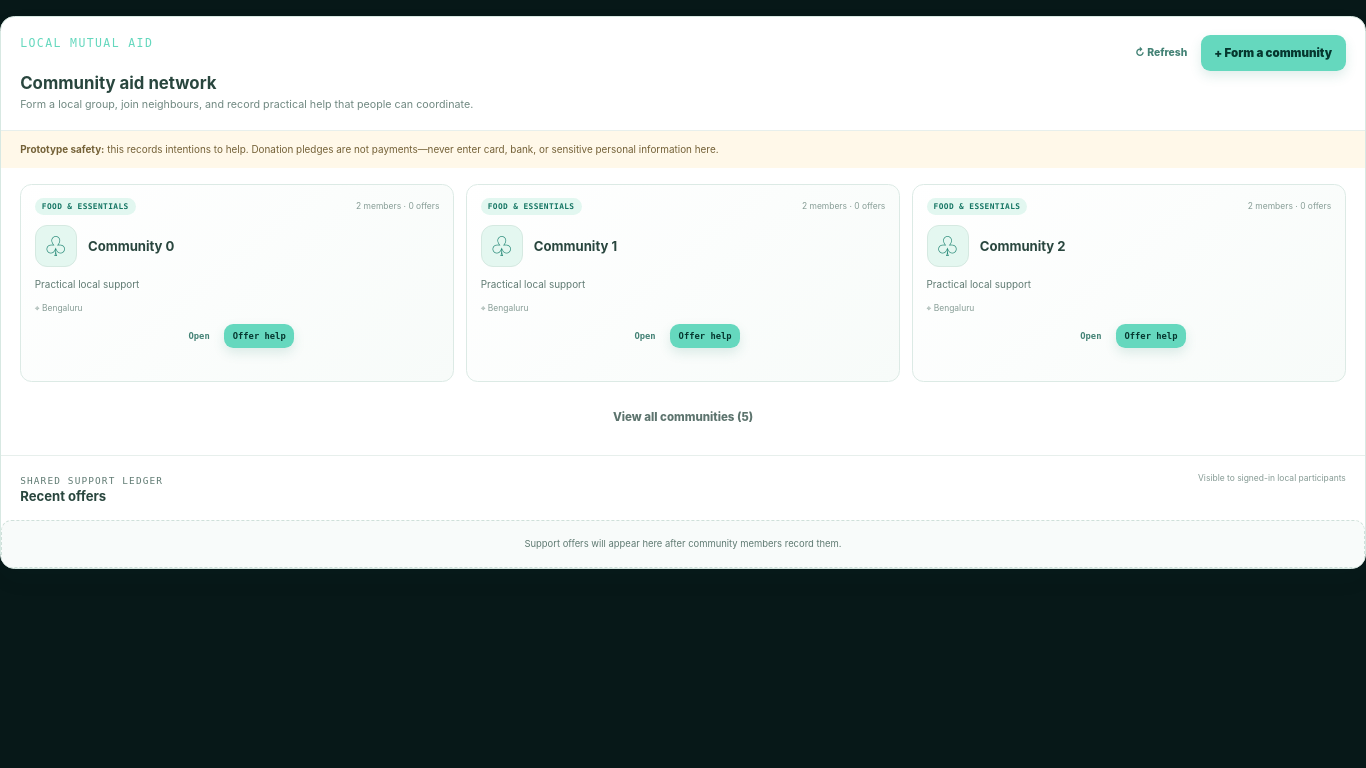
Test case: shows three compact approved cards and expands the rest
This screenshot has width=1366, height=768.
Expected: the heading "Community 0" is shown, [88, 237, 174, 255]
Expected: the number of buttons "Open" is 3, [180, 324, 218, 348]; [626, 324, 664, 348]; [1072, 324, 1110, 348]
Click the button "View all communities (5)": (683, 417) [600, 398, 766, 435]
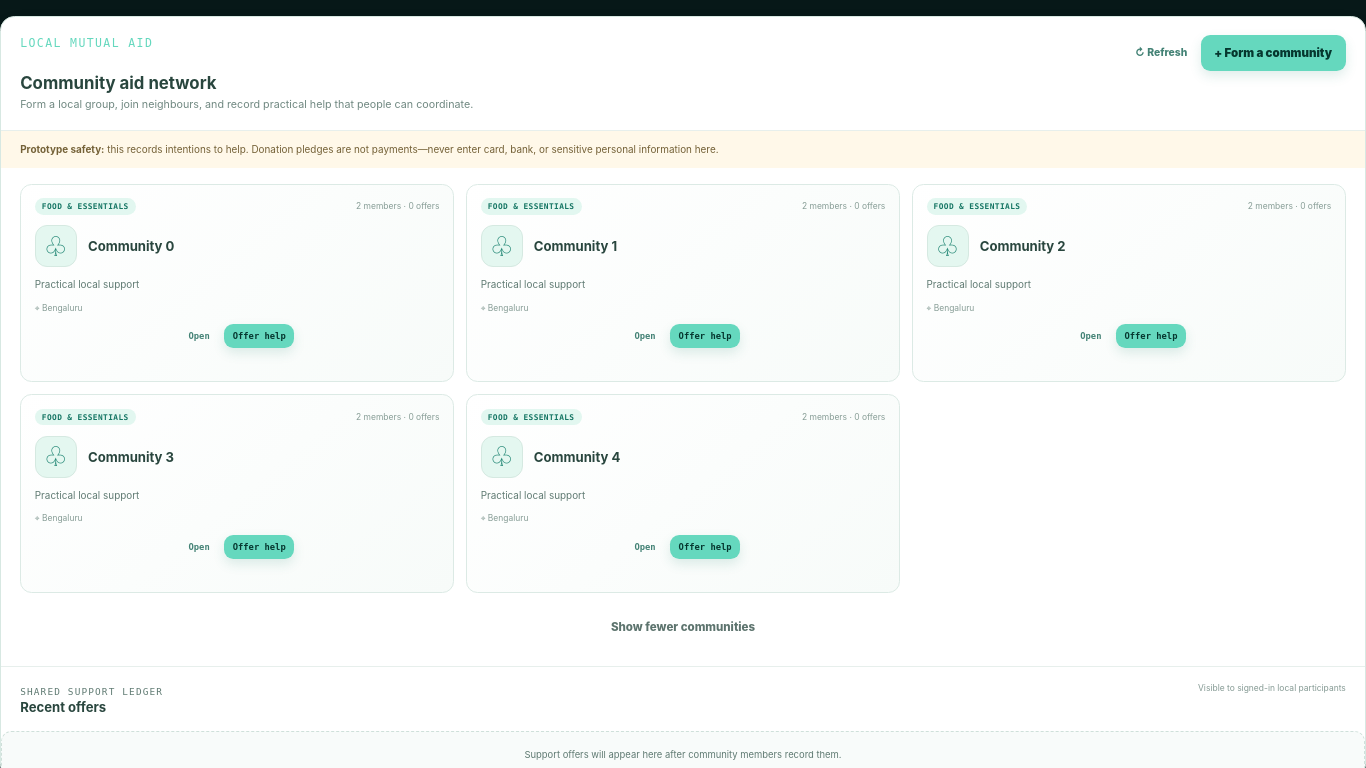
Expected: the number of buttons "Open" is 5, [180, 324, 218, 348]; [626, 324, 664, 348]; [1072, 324, 1110, 348]; [180, 535, 218, 559]; [626, 535, 664, 559]
